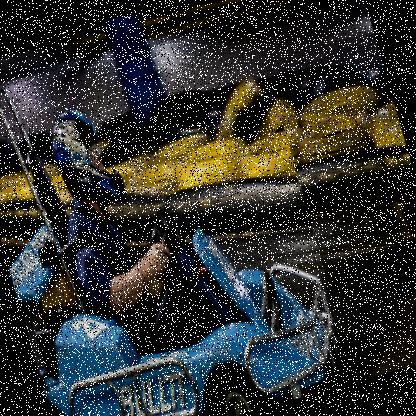Car: (0, 16, 358, 415)
